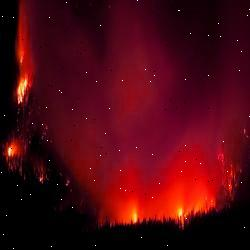fire: (3, 3, 45, 182), (123, 196, 223, 227)
